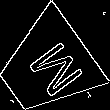M_SW: (14, 34, 79, 100)
